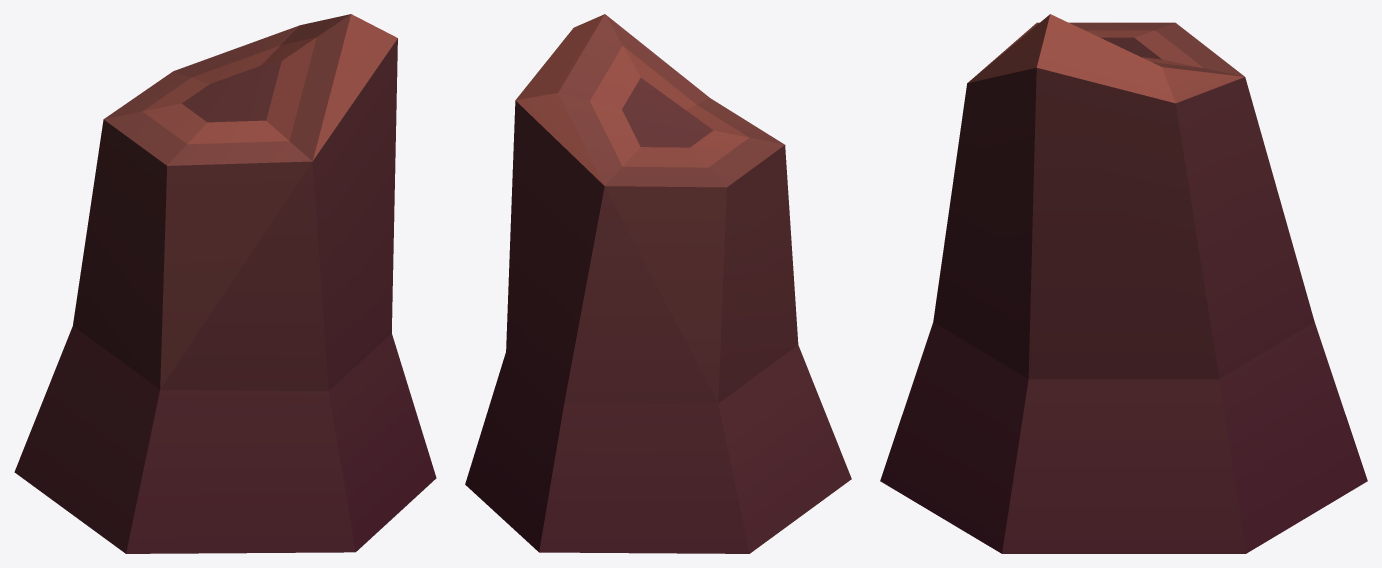
The model's file is pine7.glb.
3 views of the same model, side by side, from view 1: azimuth 30°, elevation 25°; view 2: azimuth 150°, elevation 25°; view 3: azimuth 270°, elevation 25° (orthographic). The views are drawn at different scales.
Visible parts, largest first — view 1: pine7; view 2: pine7; view 3: pine7.
Boxes of the visible parts, x1=… form: pine7: x1=14, y1=14, x2=436, y2=553; pine7: x1=465, y1=14, x2=851, y2=553; pine7: x1=880, y1=14, x2=1367, y2=553.
Bounding box in the file's own units: 1.33 × 1.89 × 1.65.
Materials: 1 (1 with a texture image).
